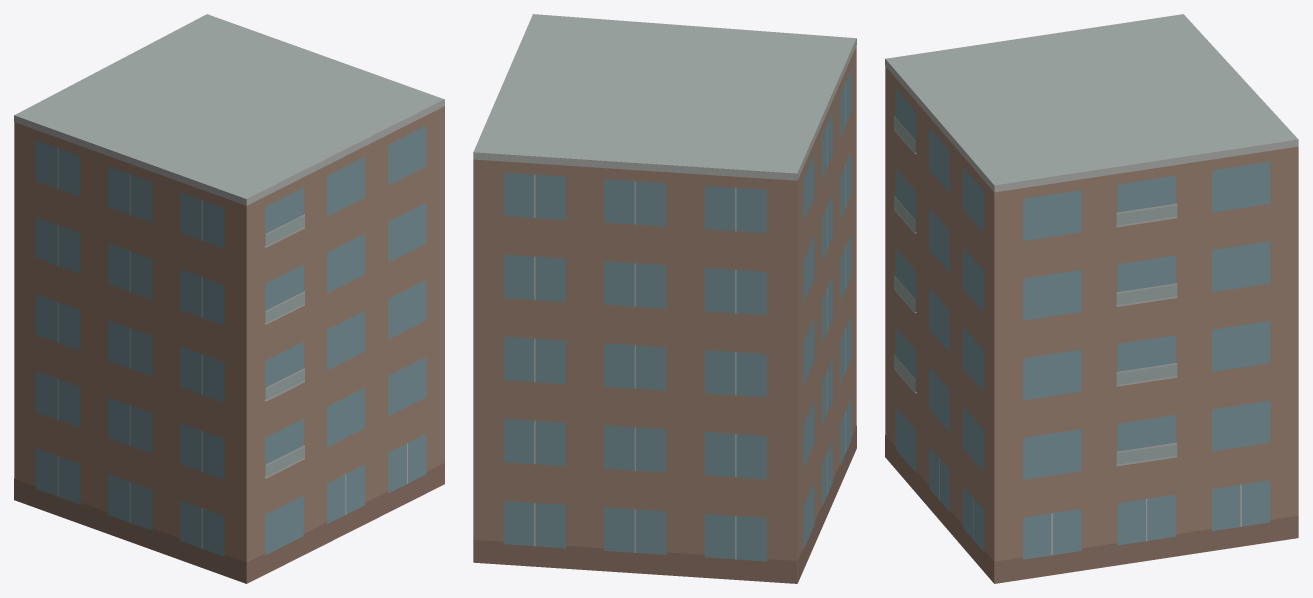
Rendered from survey-upis-33019007.glb.
3 renders of one model, left to right at view 1: azimuth 30°, elevation 25°; view 2: azimuth 150°, elevation 25°; view 3: azimuth 270°, elevation 25°, orthographic. The views are drawn at different scales.
Visible parts, largest first — view 1: survey-upis-33019007.tmp; view 2: survey-upis-33019007.tmp; view 3: survey-upis-33019007.tmp.
Part boxes in pixels (bbox=[...]): survey-upis-33019007.tmp: bbox=[14, 14, 444, 583]; survey-upis-33019007.tmp: bbox=[473, 14, 856, 583]; survey-upis-33019007.tmp: bbox=[885, 14, 1298, 583].
Size of the model in its own units: 12.89 by 13.95 by 13.13.
